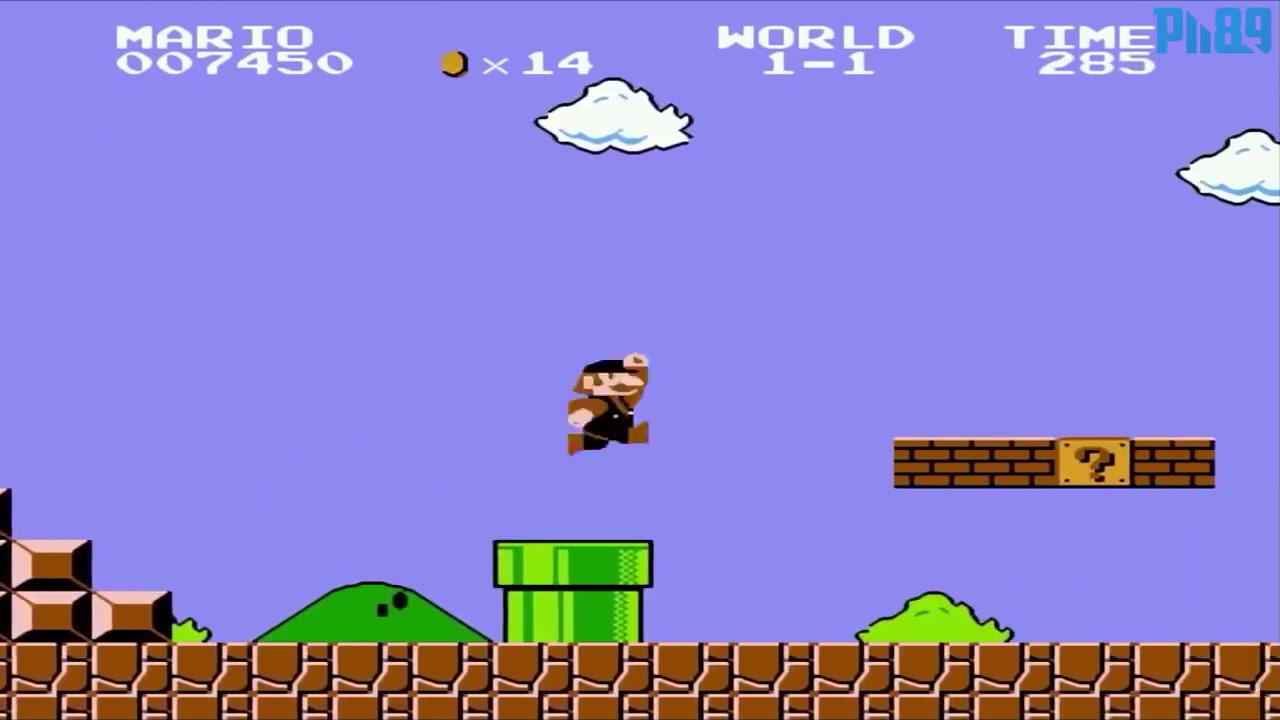mario: (555, 352, 658, 456)
